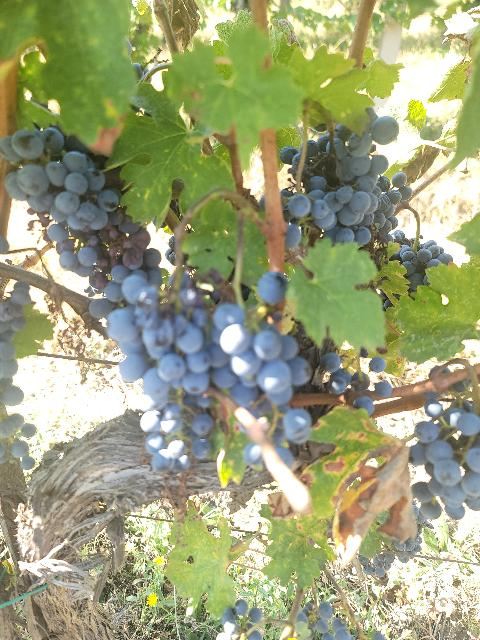grapes: (0, 126, 150, 289), (100, 270, 215, 471), (280, 109, 411, 248), (208, 302, 311, 446), (409, 399, 480, 519), (0, 281, 36, 470), (389, 230, 452, 291)
